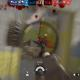Character: (32, 36, 48, 58)
Head: (37, 36, 42, 40)
